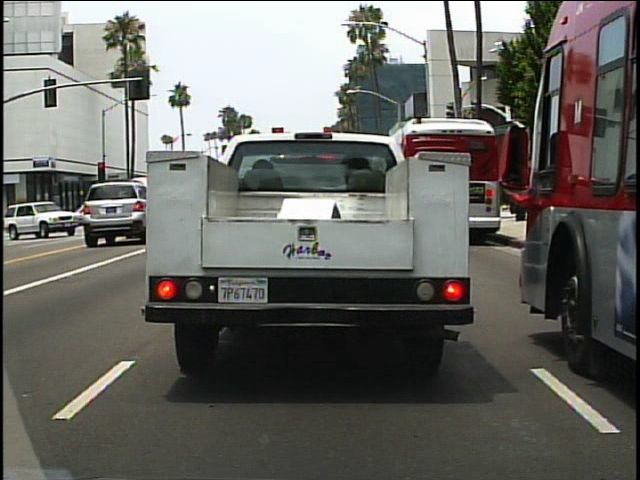person: (18, 200, 37, 234)
